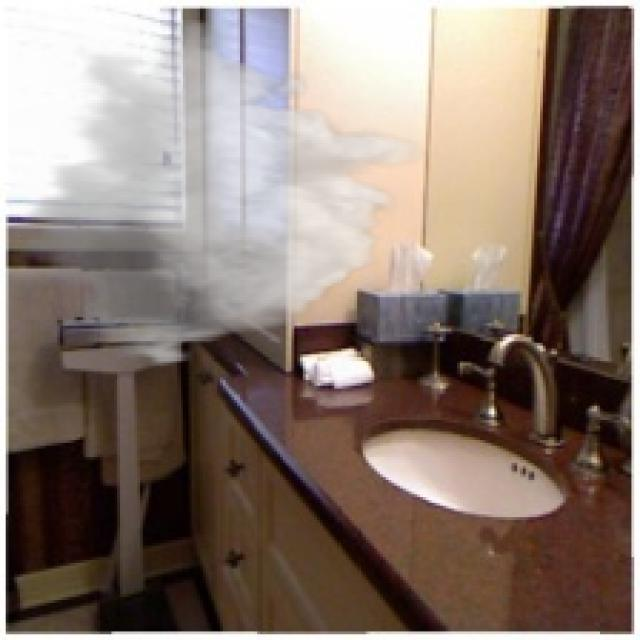smoke: (8, 17, 426, 369)
